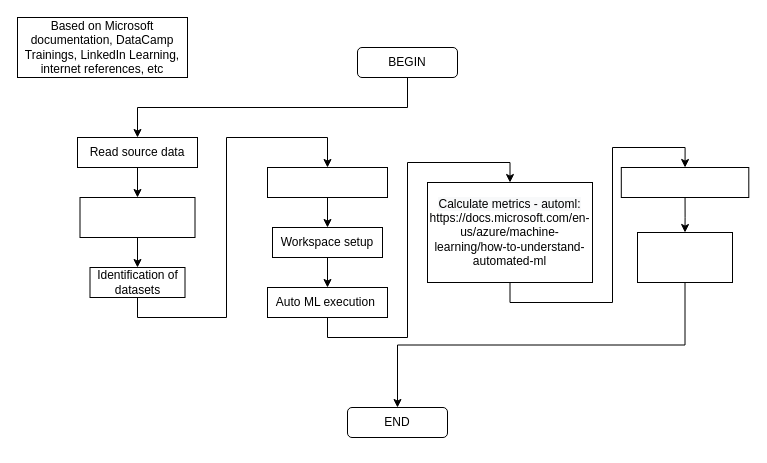
Some shapes in this 767 by 463 pixel diagram are drawn without their labels. Here are the shapes that lost their labels. From the top down, the centre of each, then its label:
At point (327, 182): "Auto ML setup".
At point (684, 182): "Display results".
At point (137, 217): "Identification of columns & cleaning".
At point (684, 257): "Explainability".
